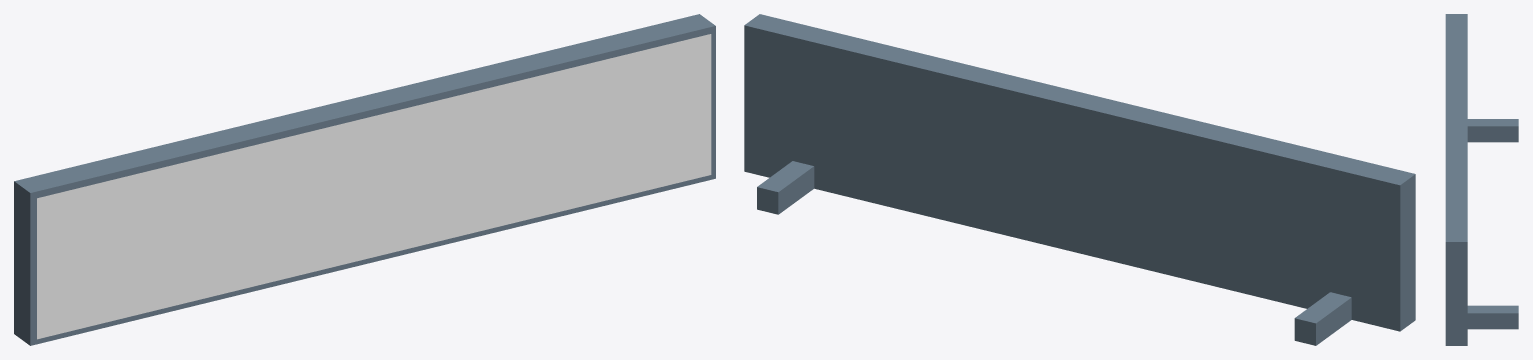
Rendered from track_barrier_banner.glb.
3 views of the same model, side by side, from view 1: azimuth 30°, elevation 25°; view 2: azimuth 150°, elevation 25°; view 3: azimuth 270°, elevation 25° (orthographic). The views are drawn at different scales.
Visible parts, largest first — view 1: Ad_Screen_Track_Barrier_Banner, Track_Barrier_Banner_Struct; view 2: Track_Barrier_Banner_Struct; view 3: Track_Barrier_Banner_Struct.
Part boxes in pixels (x1,y1,x2,y2): Ad_Screen_Track_Barrier_Banner: (37, 34, 711, 339); Track_Barrier_Banner_Struct: (14, 14, 715, 345); Track_Barrier_Banner_Struct: (744, 14, 1415, 345); Track_Barrier_Banner_Struct: (1445, 14, 1518, 345).
Bounding box in the file's own units: 6.1 × 1.3 × 0.84.
